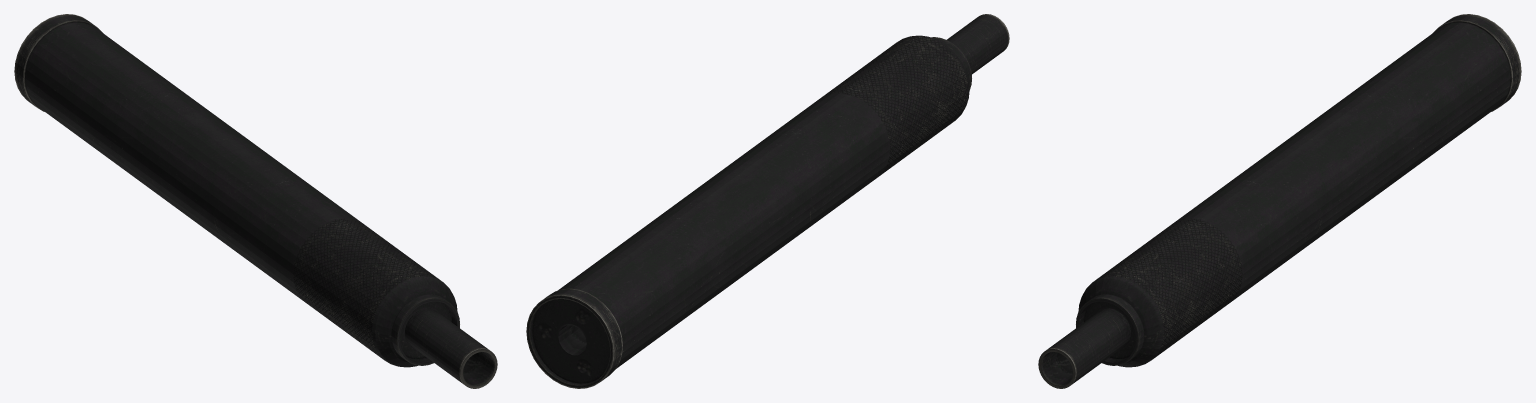
3 renders of one model, left to right at view 1: azimuth 30°, elevation 25°; view 2: azimuth 150°, elevation 25°; view 3: azimuth 330°, elevation 25°, orthographic.
Parts seen in each view (by area): view 1: TW_64527a3a7da7133e5a09ca99_PZ_Import; view 2: TW_64527a3a7da7133e5a09ca99_PZ_Import; view 3: TW_64527a3a7da7133e5a09ca99_PZ_Import.
Part boxes in pixels (bbox=[...]): TW_64527a3a7da7133e5a09ca99_PZ_Import: bbox=[14, 14, 497, 388]; TW_64527a3a7da7133e5a09ca99_PZ_Import: bbox=[526, 14, 1009, 388]; TW_64527a3a7da7133e5a09ca99_PZ_Import: bbox=[1038, 14, 1521, 388].
Bounding box in the file's own units: 0.0249 × 0.2081 × 0.0249.
1 material, 1 textured.
